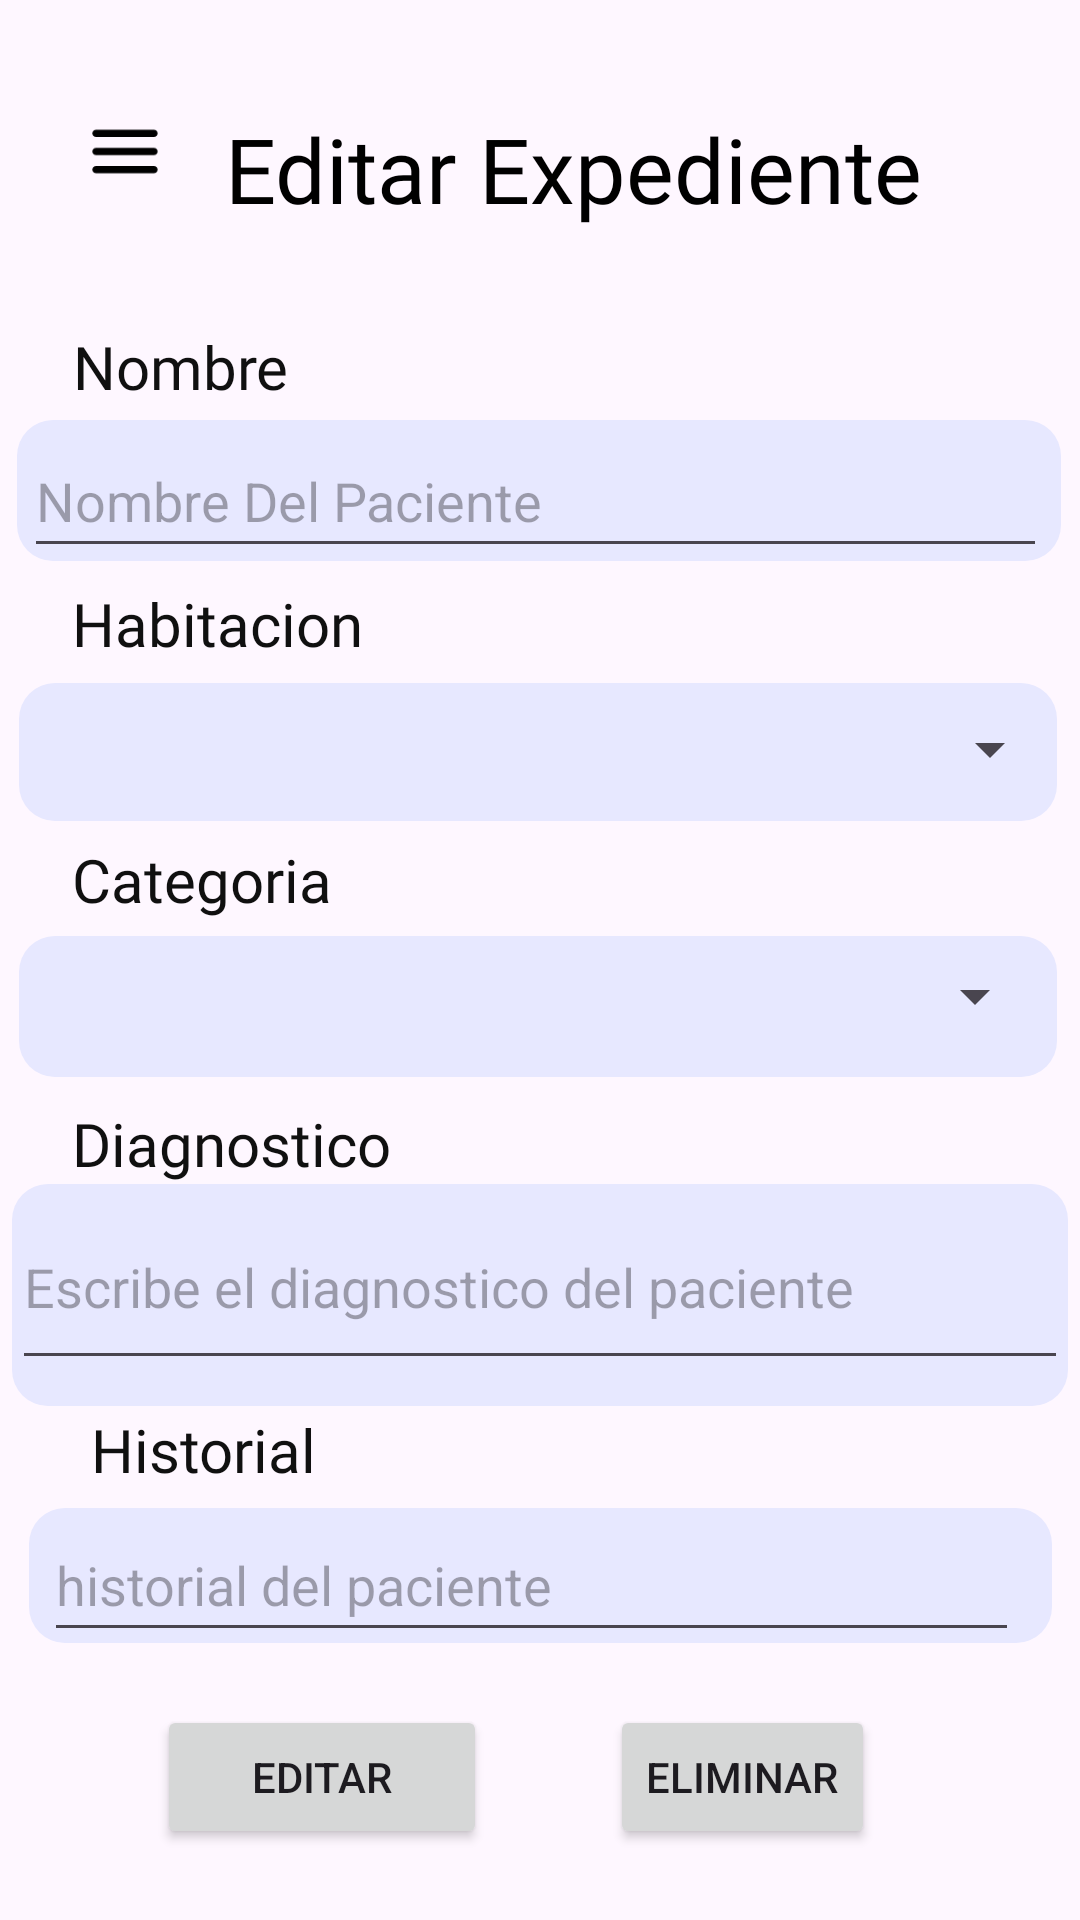

Named icons in this screenshot (1080x1920) and their bounding boxes, (x1, y1, x2, y2):
menu: (92, 129, 158, 174)
